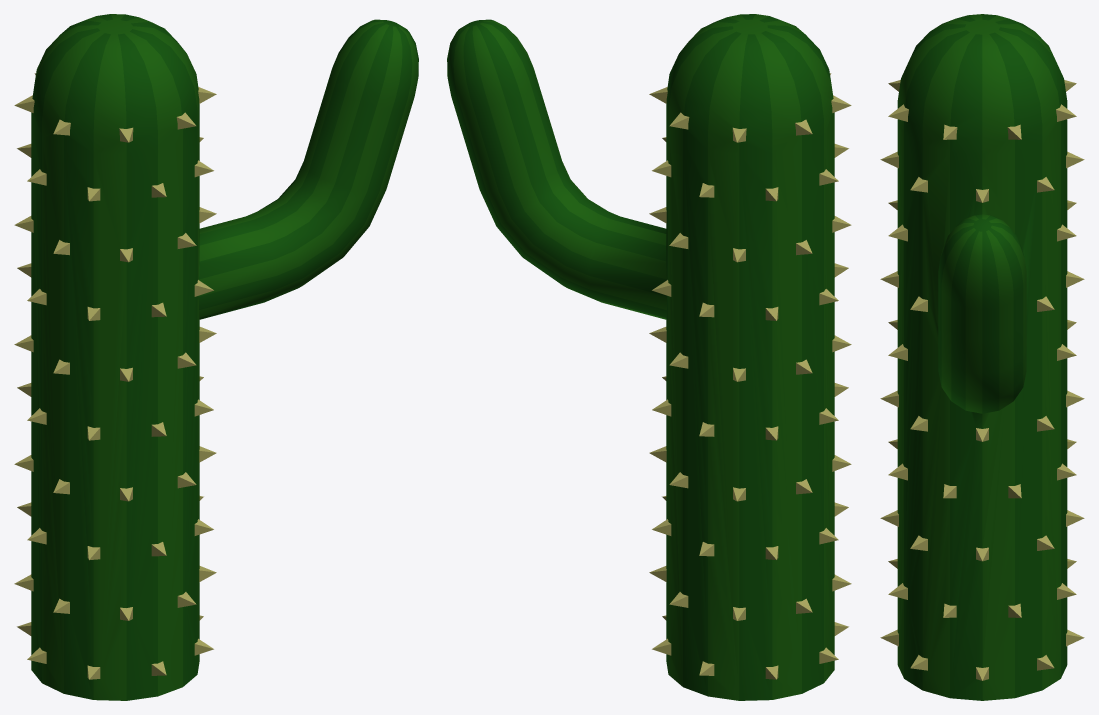
The model's file is SM_Cactus_2.fbx.
3 renders of one model, left to right at view 1: azimuth 30°, elevation 25°; view 2: azimuth 150°, elevation 25°; view 3: azimuth 270°, elevation 25°, orthographic.
Visible parts, largest first — view 1: Cactus 2; view 2: Cactus 2; view 3: Cactus 2.
Part boxes in pixels (<box>): Cactus 2: <box>14,14,418,700</box>; Cactus 2: <box>447,14,851,700</box>; Cactus 2: <box>880,14,1084,700</box>.
Size of the model in its own units: 149 by 235 by 68.35.
